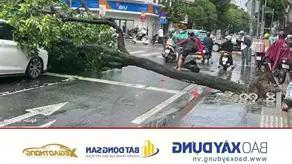ROAD_FLOODING: (16, 66, 270, 151)
